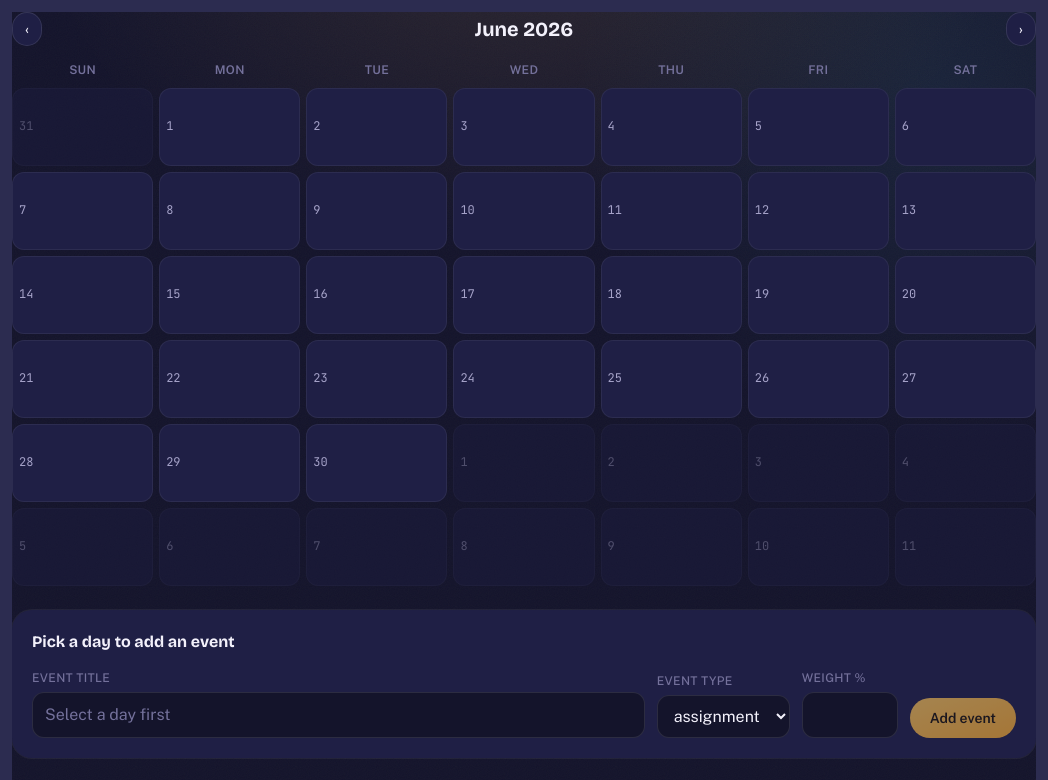
Test: CalendarBoard › navigates to the next month
Expected: the heading "June 2026" is shown, [475, 15, 573, 43]
Click the button named "next month" at point(1021, 29), box [1006, 12, 1036, 46]
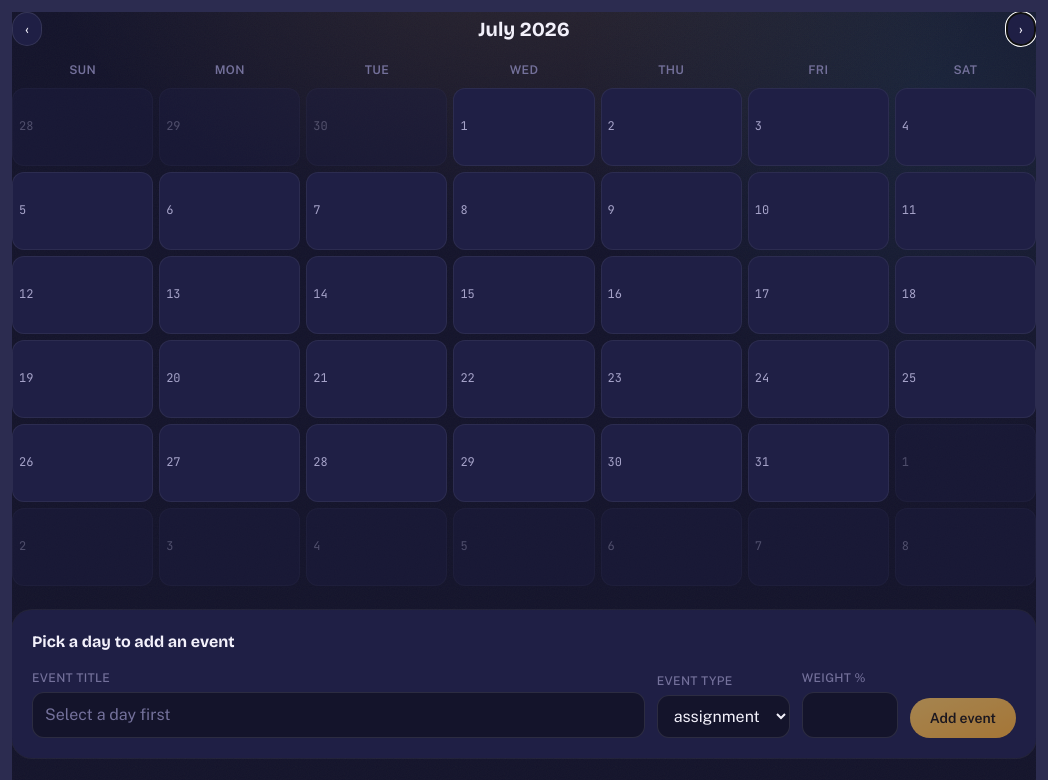
Now the heading "July 2026" is shown, box [478, 15, 570, 43]
